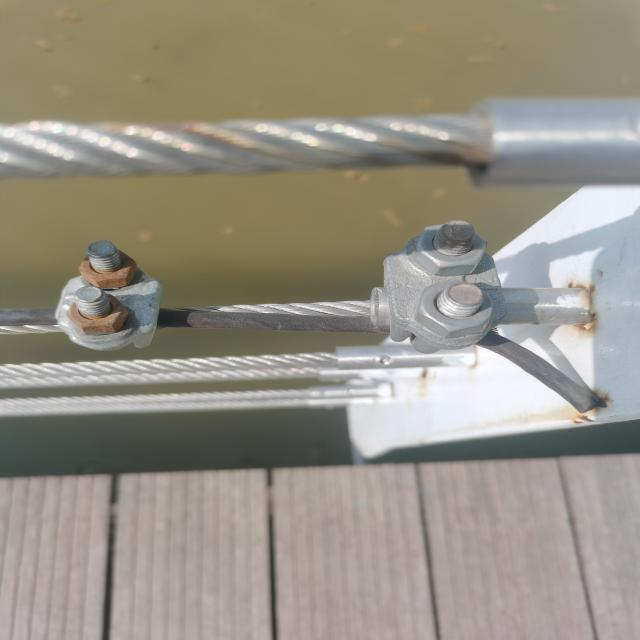bolt nut: (413, 279, 496, 341), (409, 219, 489, 278), (65, 291, 130, 337), (78, 247, 139, 290)
